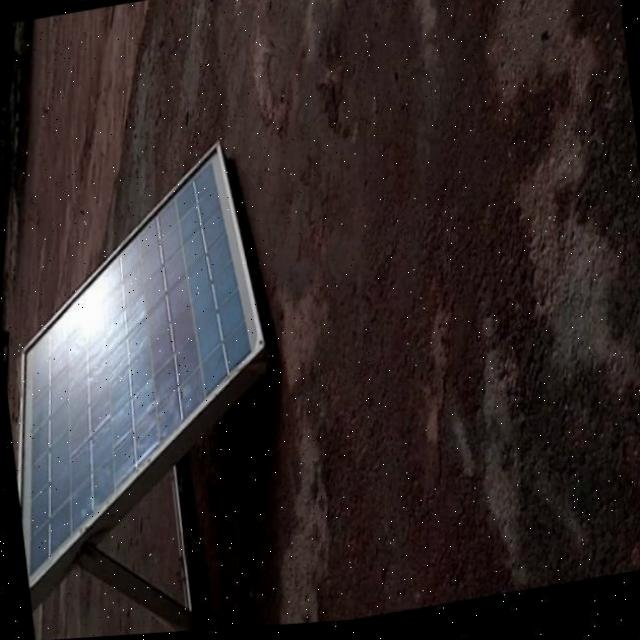Normal Solar Panel: (0, 140, 287, 615)
